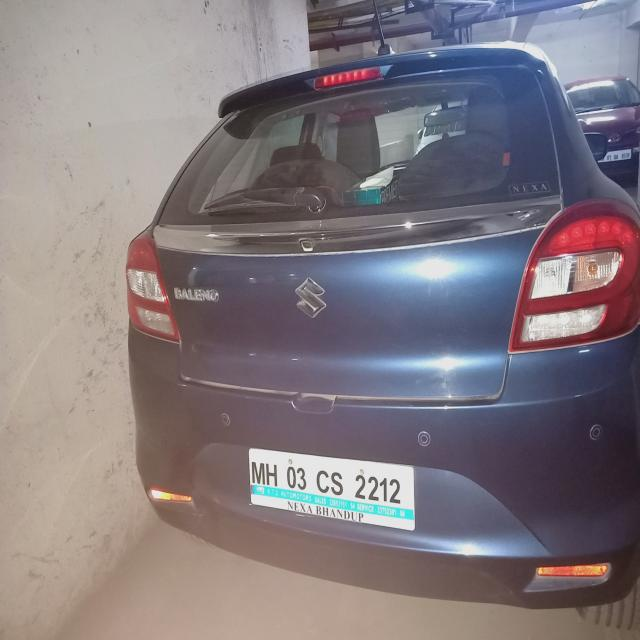Number-Plate: (248, 451, 412, 515)
